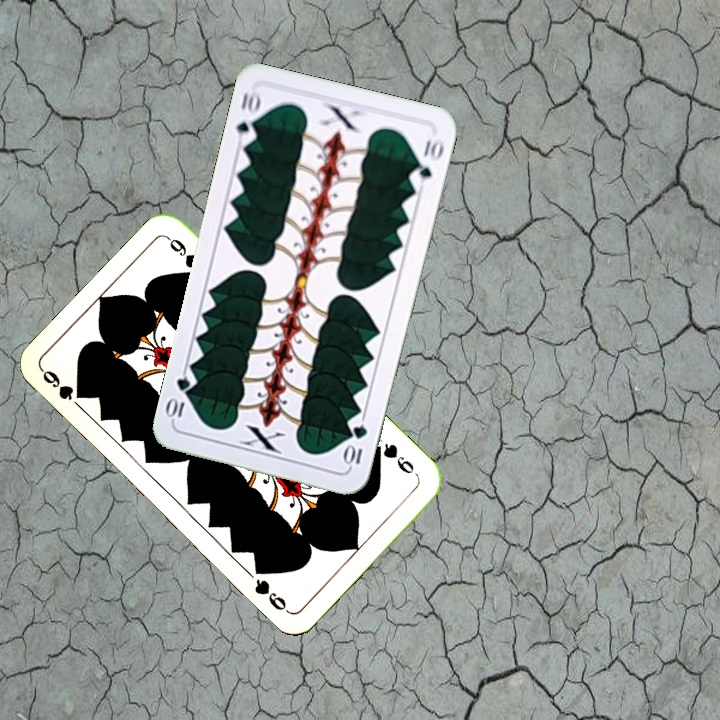G10: (232, 87, 264, 147), (341, 420, 370, 470)
G9: (369, 439, 417, 477), (37, 366, 86, 403)
